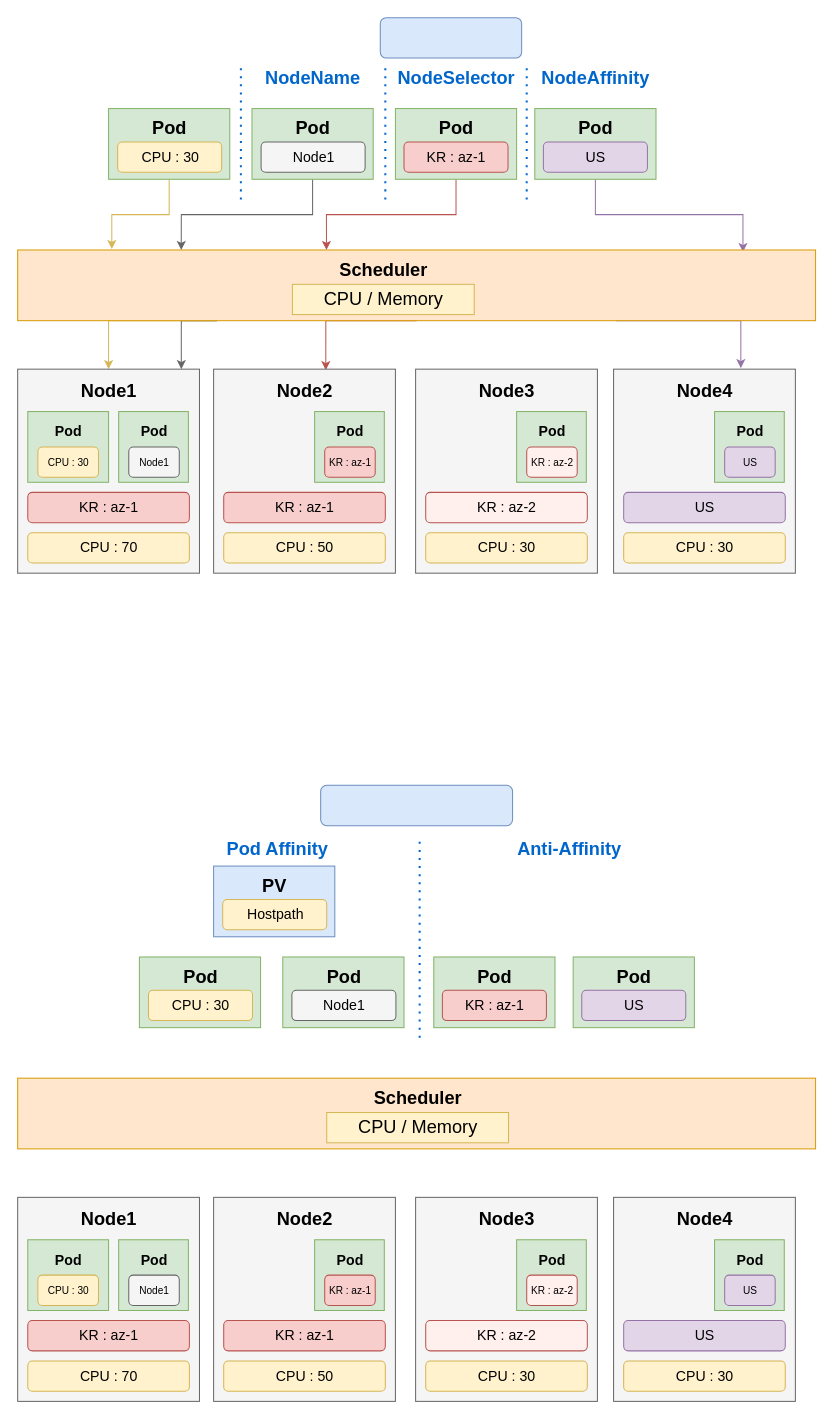
Image size: 833x1419. Some labels were removed from this diagram. Here are the shapes that lost their labels. From the top down, the centre of each, then its label:
the point at 450,37: Node 선택
the point at 416,805: Pod간 집중 / 분산
